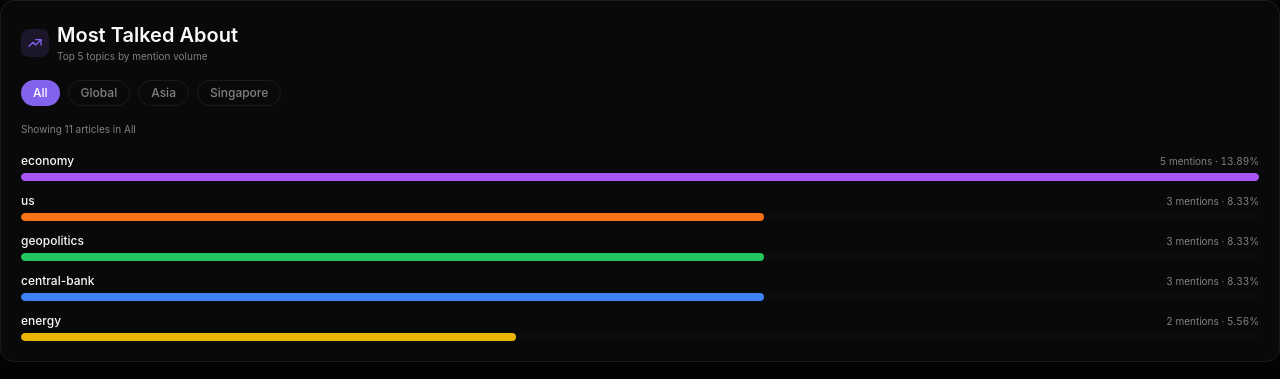
MostTalkedAbout › updates when Asia region is selected
The width and height of the screenshot is (1280, 379).
Expected: the text "Showing 11 articles in All" is shown, x1=21 y1=123 x2=136 y2=135
Click the button "Asia". click: (164, 93)
box: x1=138 y1=80 x2=189 y2=106
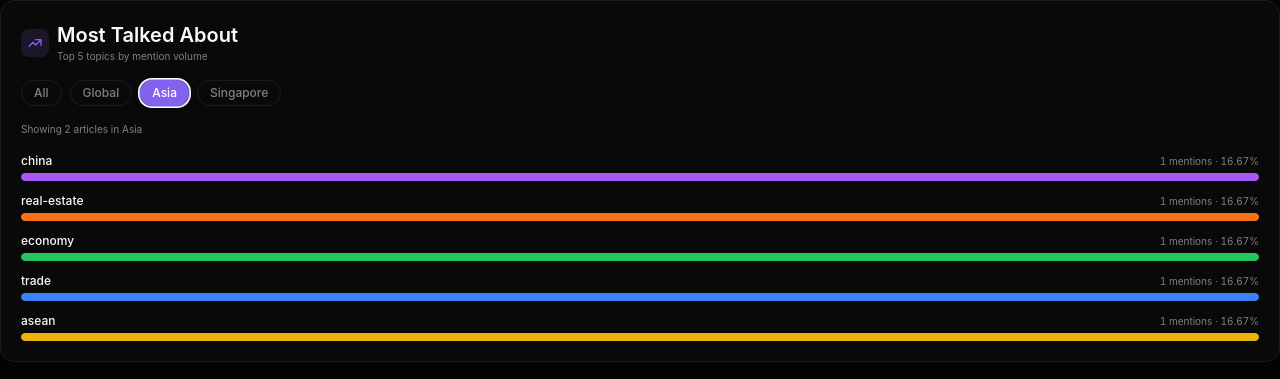
Expected: the text "Showing 2 articles in Asia" is shown, x1=21 y1=123 x2=142 y2=135
